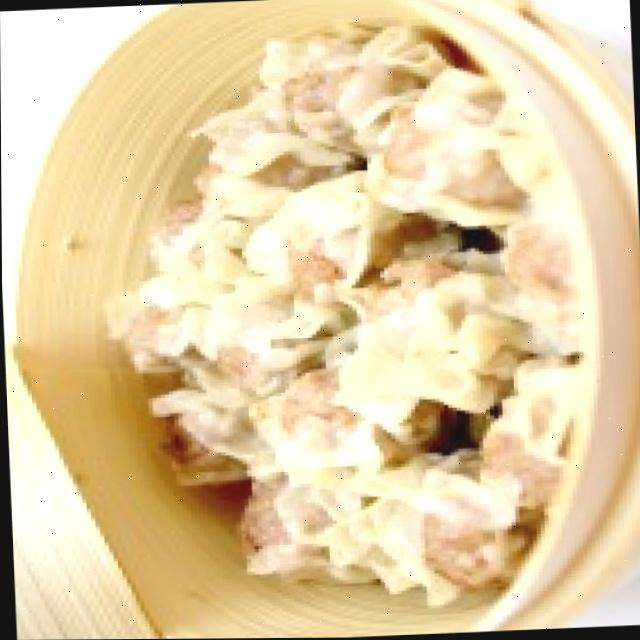带馅早点: (111, 23, 588, 630)
